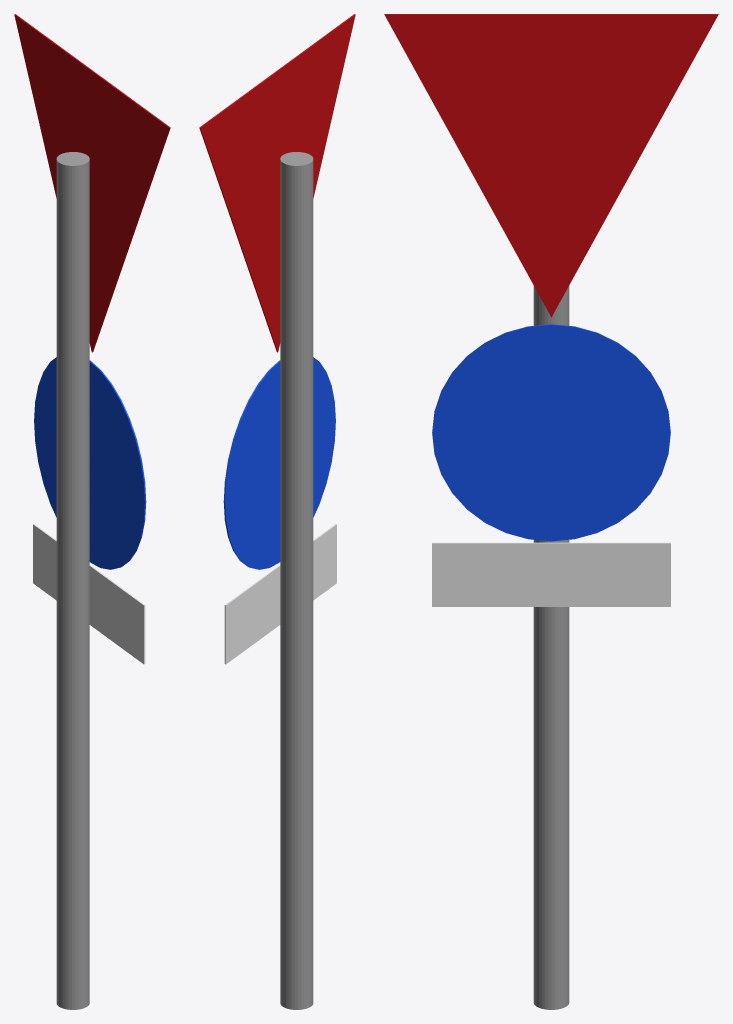
File: (Multi)StreetSign2WIP.fbx
3 renders of one model, left to right at view 1: azimuth 30°, elevation 25°; view 2: azimuth 150°, elevation 25°; view 3: azimuth 270°, elevation 25°, orthographic. The views are drawn at different scales.
Parts seen in each view (by area): view 1: Sign; view 2: Sign; view 3: Sign.
Boxes of the visible parts, x1,y1,x2,y2 form: Sign: [14, 14, 170, 1009]; Sign: [199, 14, 355, 1009]; Sign: [384, 14, 718, 1009].
Bounding box in the file's own units: 14.19 × 365 × 111.
